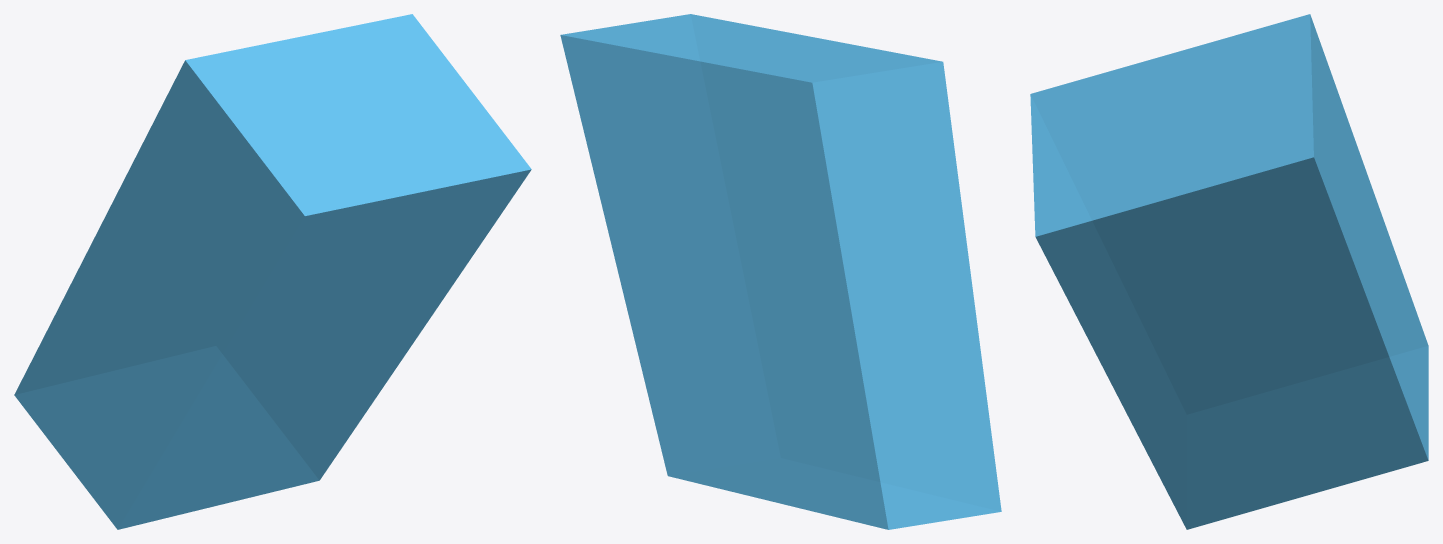
Rendered from Event_420107950_HBrechit_22.fbx.
The picture shows the model from 3 angles, left to right: view 1: azimuth 30°, elevation 25°; view 2: azimuth 150°, elevation 25°; view 3: azimuth 270°, elevation 25°; orthographic projection. The views are drawn at different scales.
Visible parts, largest first — view 1: Model; view 2: Model; view 3: Model.
Part boxes in pixels (box(x1,y1,x2,y2)): Model: box(14, 14, 531, 529); Model: box(560, 14, 1001, 529); Model: box(1030, 14, 1428, 529).
Bounding box in the file's own units: 0.7467 × 0.8207 × 0.6309.
